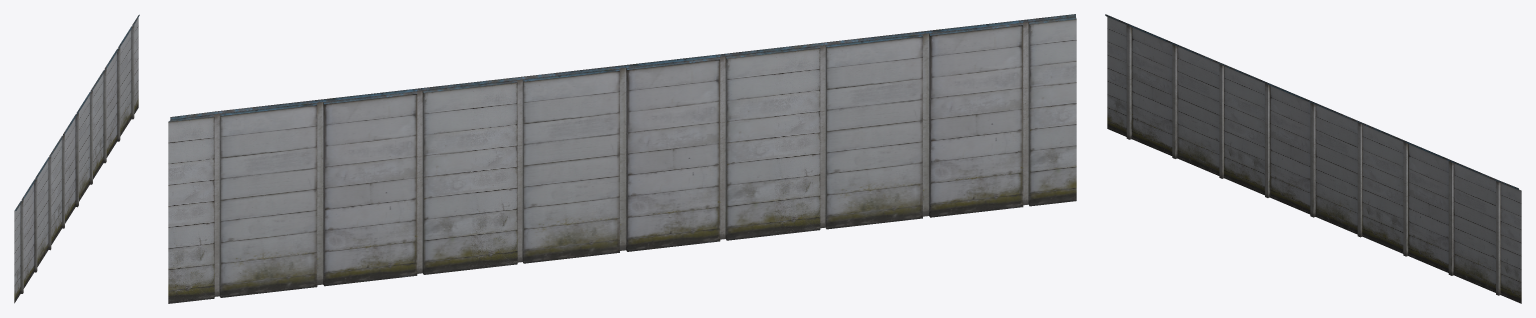
The model's file is Outer_Fence_Corner.fbx.
The picture shows the model from 3 angles, left to right: view 1: azimuth 30°, elevation 25°; view 2: azimuth 150°, elevation 25°; view 3: azimuth 270°, elevation 25°; orthographic projection. The views are drawn at different scales.
Visible parts, largest first — view 1: Outer_Fence_Corner; view 2: Outer_Fence_Corner; view 3: Outer_Fence_Corner.
Boxes of the visible parts, x1,y1,x2,y2 form: Outer_Fence_Corner: [14, 14, 139, 303]; Outer_Fence_Corner: [168, 14, 1076, 303]; Outer_Fence_Corner: [1105, 14, 1521, 303].
Size of the model in its own units: 20 by 6.15 by 20.09.
